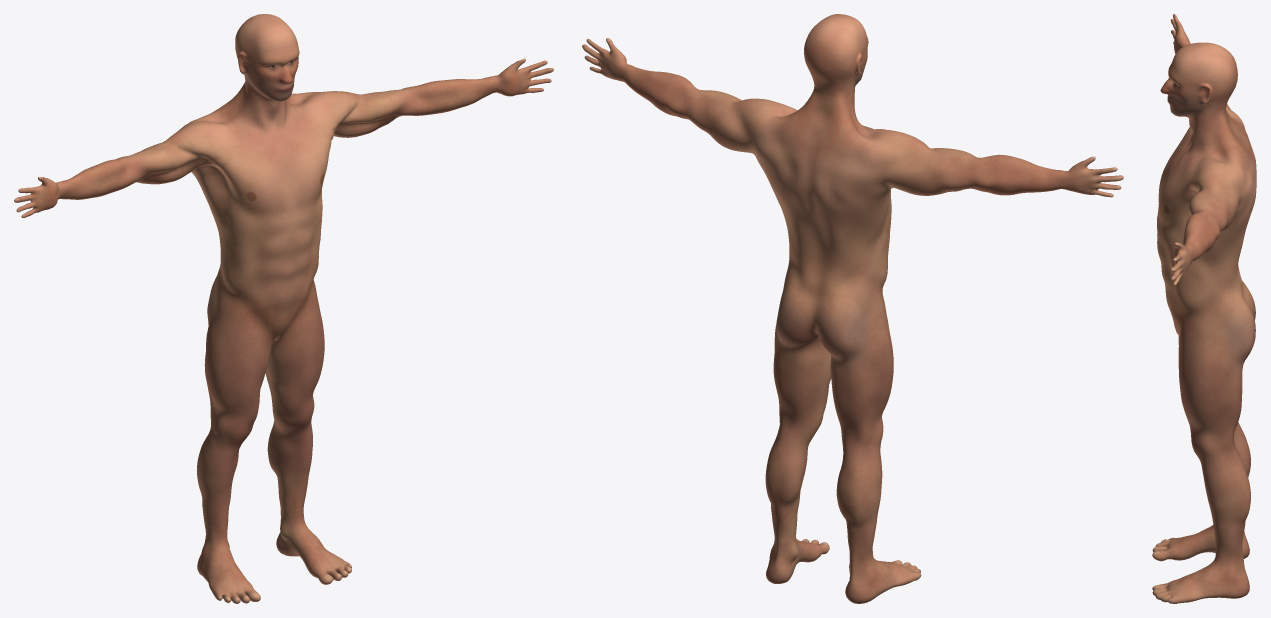
3 renders of one model, left to right at view 1: azimuth 30°, elevation 25°; view 2: azimuth 150°, elevation 25°; view 3: azimuth 270°, elevation 25°, orthographic. The views are drawn at different scales.
Parts seen in each view (by area): view 1: ZBrush_defualt_group; view 2: ZBrush_defualt_group; view 3: ZBrush_defualt_group.
Boxes of the visible parts, bbox=[...] form: ZBrush_defualt_group: bbox=[14, 14, 553, 603]; ZBrush_defualt_group: bbox=[582, 14, 1123, 603]; ZBrush_defualt_group: bbox=[1152, 14, 1256, 603].
Bounding box in the file's own units: 2 × 1.98 × 0.3514.
Materials: 1 (1 with a texture image).
